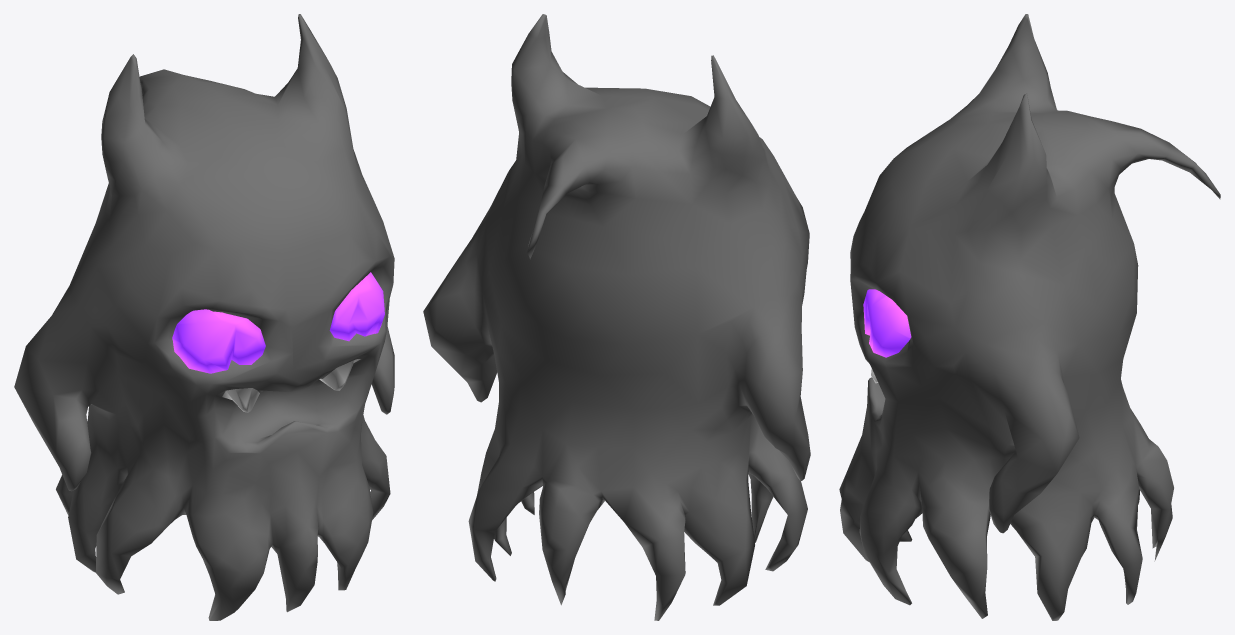
Rendered from newGhost.fbx.
The picture shows the model from 3 angles, left to right: view 1: azimuth 30°, elevation 25°; view 2: azimuth 150°, elevation 25°; view 3: azimuth 270°, elevation 25°; orthographic projection. The views are drawn at different scales.
Visible parts, largest first — view 1: Group58971, Group17845.001; view 2: Group58971; view 3: Group58971, Group17845.001.
Part boxes in pixels (x1,y1,x2,y2): Group58971: (14,14,394,620); Group17845.001: (172,272,384,373); Group58971: (423,14,810,620); Group58971: (839,14,1220,620); Group17845.001: (863,289,911,357).
Size of the model in its own units: 54.19 by 74.75 by 49.67.
